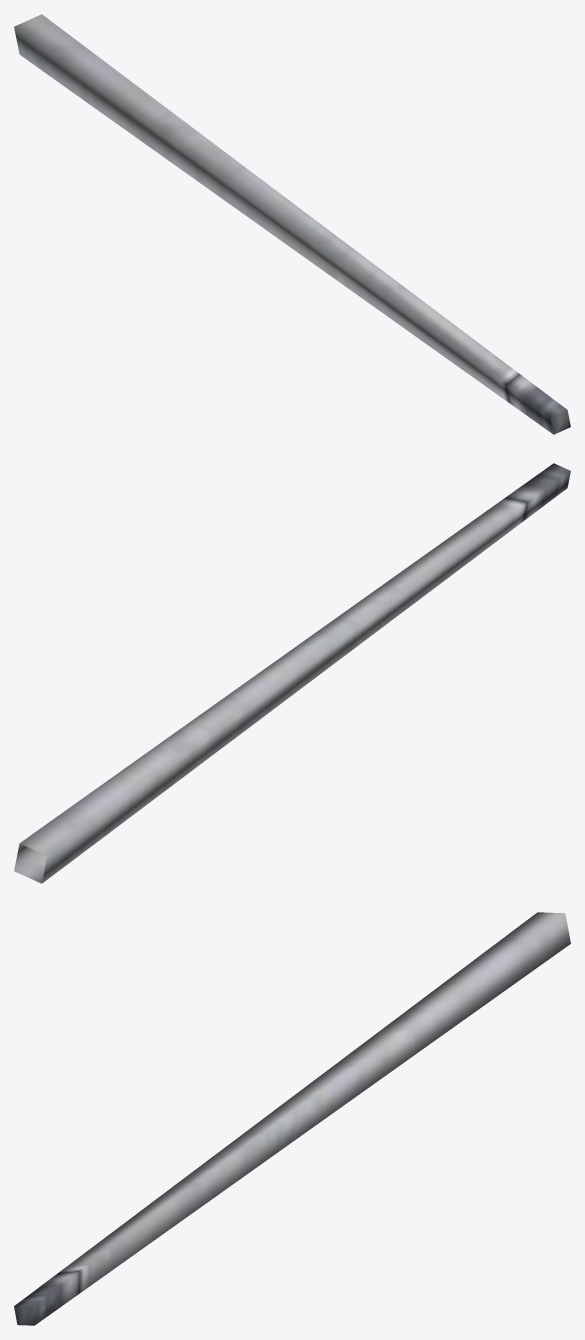
The model's file is spacestation_turret_barrel_s02_l2.fbx.
3 views of the same model, one above another, from view 1: azimuth 30°, elevation 25°; view 2: azimuth 150°, elevation 25°; view 3: azimuth 330°, elevation 25° (orthographic).
Visible parts, largest first — view 1: mesh_node; view 2: mesh_node; view 3: mesh_node.
Part boxes in pixels (left/top/right/bottom): mesh_node: left=14, top=14, right=570, bottom=434; mesh_node: left=14, top=463, right=570, bottom=883; mesh_node: left=14, top=912, right=570, bottom=1325.
Size of the model in its own units: 0.2301 by 0.2305 by 6.32.
Materials: 1 (1 with a texture image).
